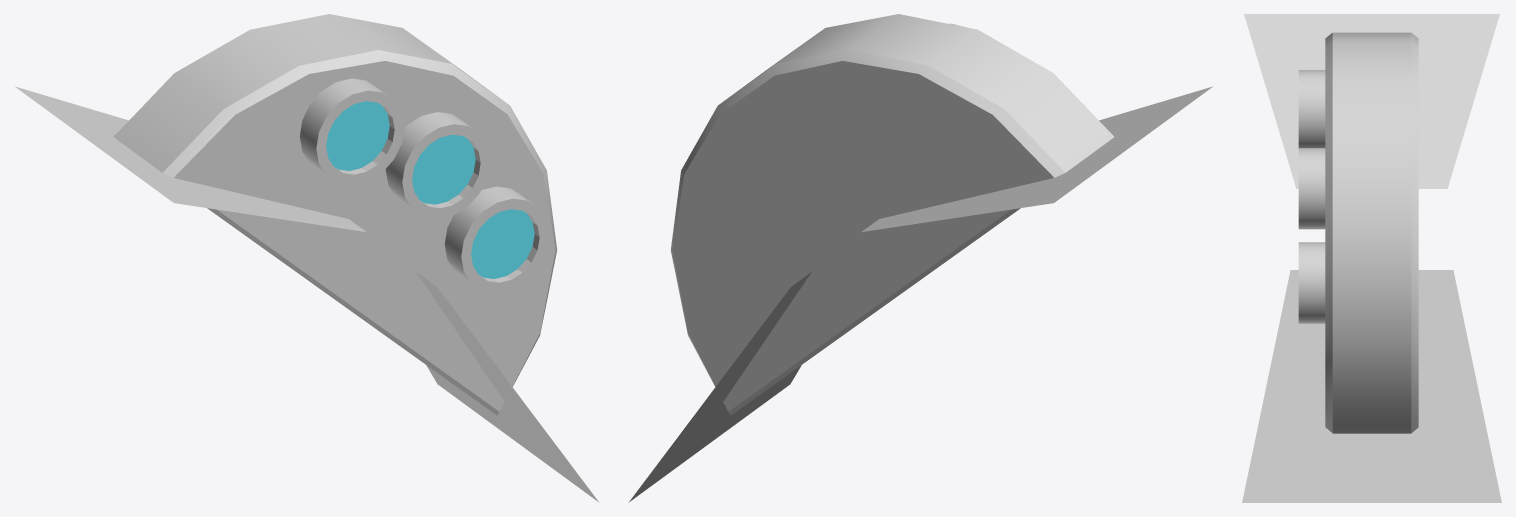
The model's file is Mod_Pauldron_L_Brains3.fbx.
3 renders of one model, left to right at view 1: azimuth 30°, elevation 25°; view 2: azimuth 150°, elevation 25°; view 3: azimuth 270°, elevation 25°, orthographic. The views are drawn at different scales.
Parts seen in each view (by area): view 1: Mod_Pauldron_L_Brains3; view 2: Mod_Pauldron_L_Brains3; view 3: Mod_Pauldron_L_Brains3.
Part boxes in pixels (<box>): Mod_Pauldron_L_Brains3: <box>15,14,599,502</box>; Mod_Pauldron_L_Brains3: <box>628,14,1212,502</box>; Mod_Pauldron_L_Brains3: <box>1242,14,1501,502</box>.
Bounding box in the file's own units: 225 × 224 × 144.
